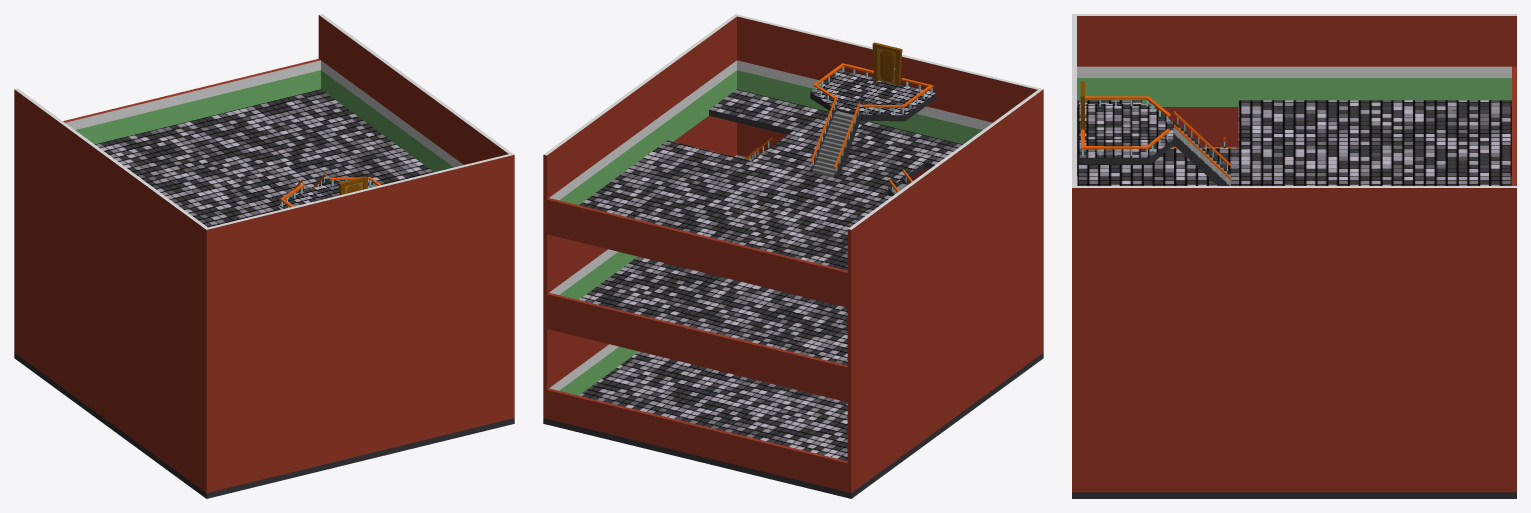
The model's file is Loc 1.fbx.
3 renders of one model, left to right at view 1: azimuth 30°, elevation 25°; view 2: azimuth 150°, elevation 25°; view 3: azimuth 270°, elevation 25°, orthographic. The views are drawn at different scales.
Parts seen in each view (by area): view 1: 3rd wall, 2nd wall, 1st wall, 3rd floor, 1st floor, Final; view 2: 3rd wall, 2nd wall, 1st wall, 3rd floor, 1st floor, 2nd floor, Final, Steps 2.008, Railings.007, Door, Plane.001, Doorway; view 3: 3rd wall, 2nd wall, 1st wall, 3rd floor, Final, 1st floor, Railings.007, Plane.001, Railings, Steps 2.008.
Boxes of the visible parts, x1,y1,x2,y2 form: 3rd wall: (14,14,514,308); 2nd wall: (14,168,514,403); 1st wall: (14,263,514,492); 3rd floor: (95,89,433,227); 1st floor: (14,353,514,498); Final: (277,183,375,210); 3rd wall: (543,14,1043,308); 2nd wall: (543,115,1043,403); 1st wall: (543,263,1043,492); 3rd floor: (579,89,962,270); 1st floor: (543,351,1043,498); 2nd floor: (579,256,847,365); Final: (810,69,936,121); Steps 2.008: (812,111,856,177); Railings.007: (813,63,933,113); Door: (877,48,895,84); Plane.001: (810,104,860,178); Doorway: (872,42,902,85); 3rd wall: (1072,14,1516,278); 2nd wall: (1072,107,1516,388); 1st wall: (1072,388,1516,492); 3rd floor: (1077,100,1511,185); Final: (1078,104,1173,164); 1st floor: (1072,492,1516,498); Railings.007: (1081,96,1170,155); Plane.001: (1173,120,1230,185); Railings: (1174,111,1231,183); Steps 2.008: (1173,127,1230,185).
Size of the model in its own units: 3407 by 2940 by 3683.
